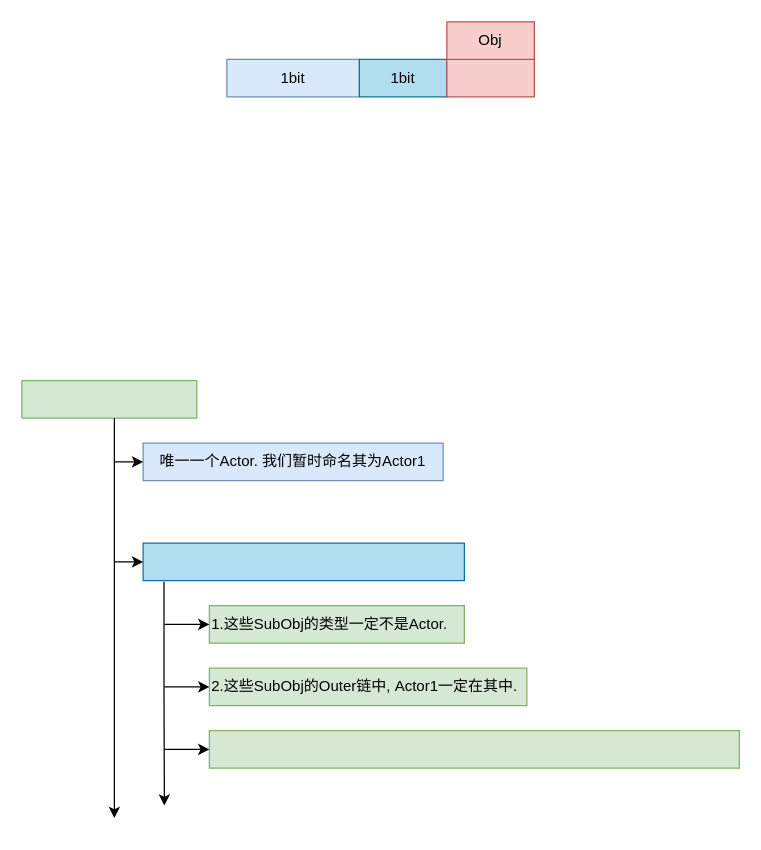
Image size: 761x850. Some labels were removed from this diagram. The shapes that lost their labels are listed below. From the top down, each one's centre as x and y in pixels, then its label:
point 109,398: ActorChannel
point 303,561: 无数个SubObj, 并且这些SubObj满足以下条件:
point 473,748: 3.每个SubObj唯一对应一个FObjectReplicator(仅在Server端, Client不需要复制)
